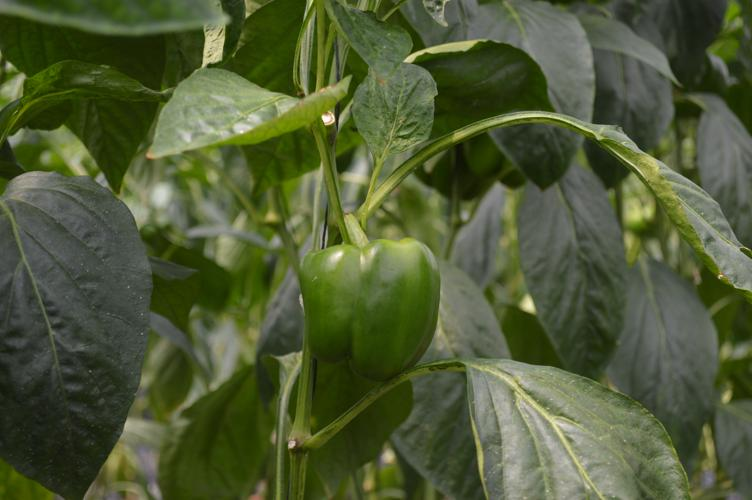BellPepper: (295, 239, 441, 377)
